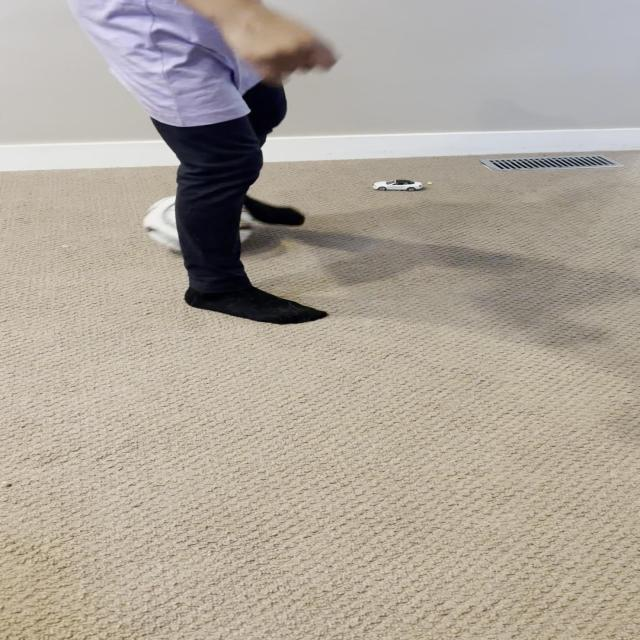Soccer Ball: (141, 193, 255, 255)
